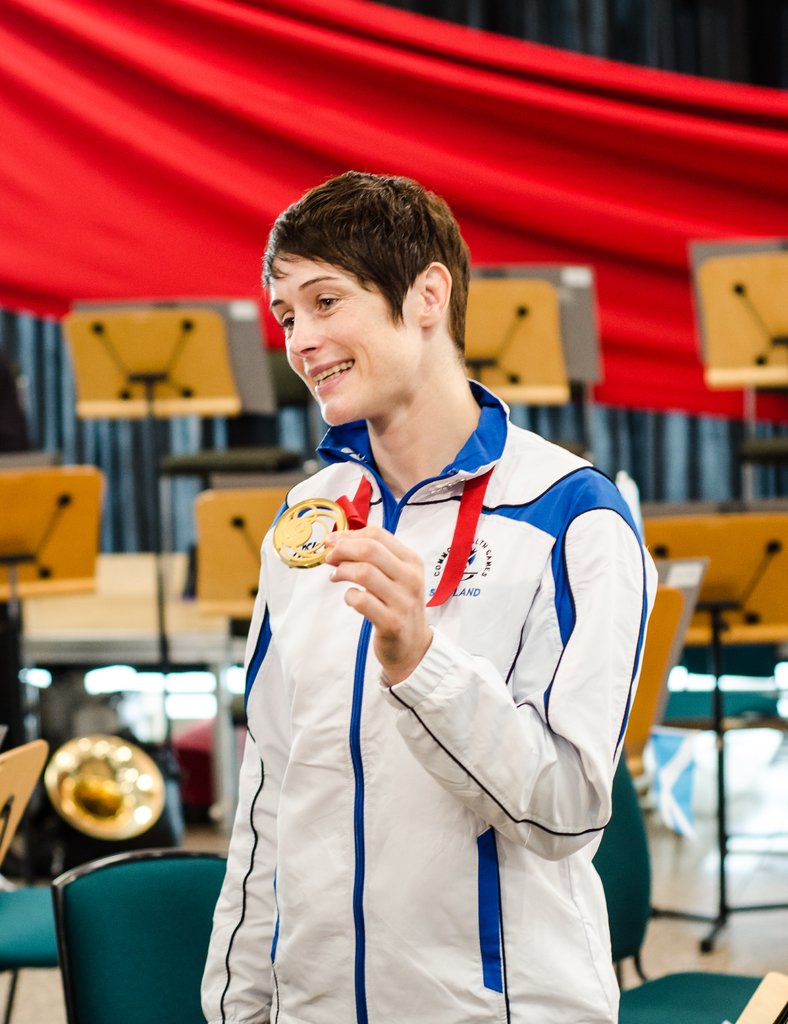Human_hand: (308, 504, 461, 675)
